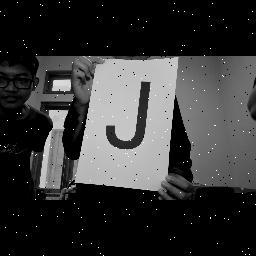j: (102, 74, 154, 156)
